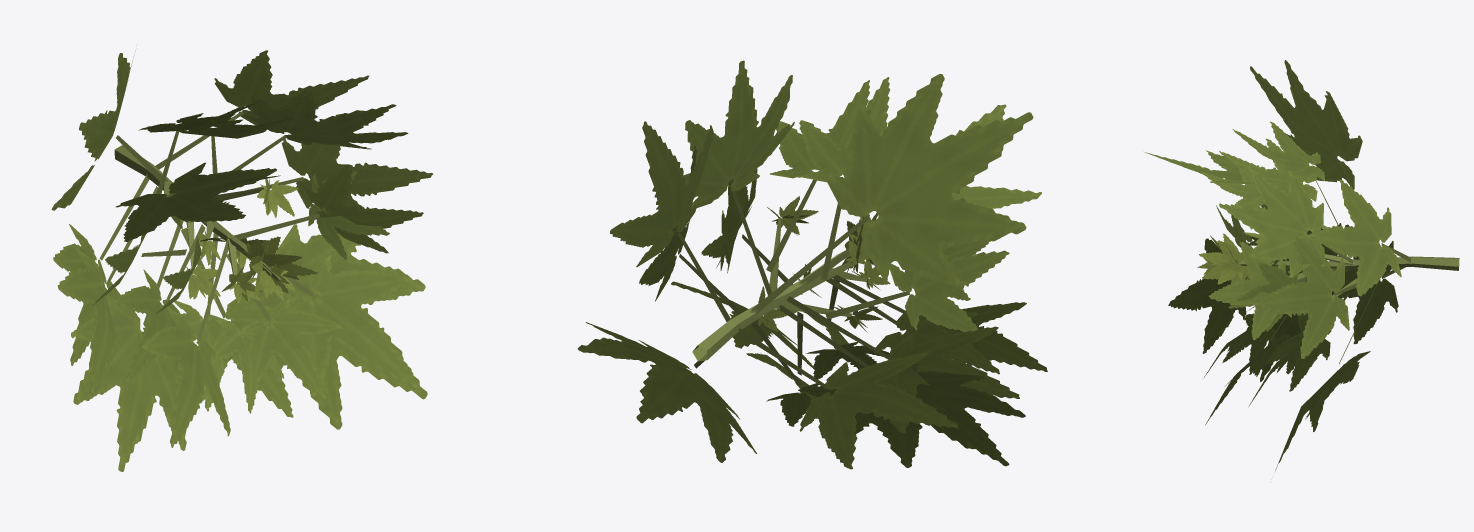
Rendered from p_hybrid_vegetative_c1_cards.obj.
3 renders of one model, left to right at view 1: azimuth 30°, elevation 25°; view 2: azimuth 150°, elevation 25°; view 3: azimuth 270°, elevation 25°, orthographic. The views are drawn at different scales.
Bounding box in the file's own units: 1.28 × 1.25 × 0.907.
Materials: 1 (1 with a texture image).
